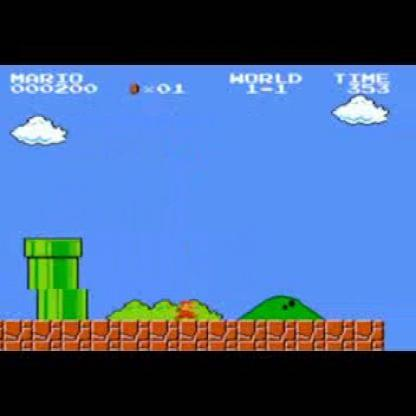Hoyo: (377, 313, 415, 351)
